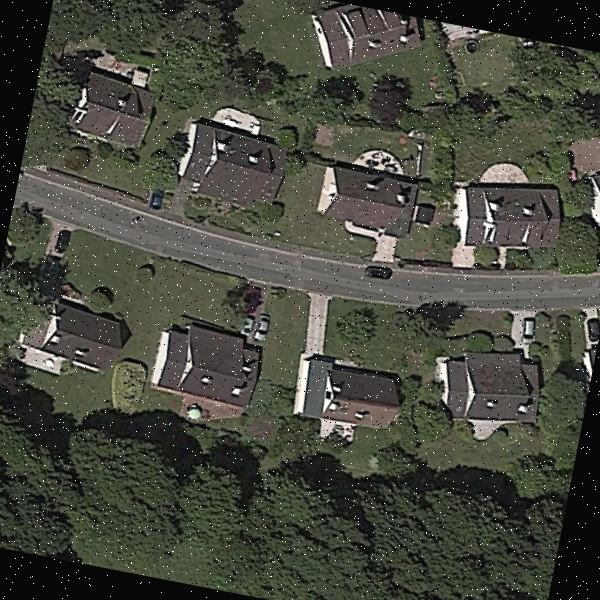Buildings: (147, 324, 265, 415), (303, 0, 420, 90), (314, 155, 436, 240), (437, 342, 543, 433), (174, 121, 286, 206), (446, 180, 568, 248), (297, 360, 402, 433), (68, 70, 158, 151), (41, 296, 133, 375), (583, 164, 600, 218)
